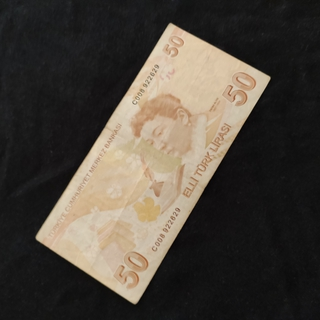50TLBack: (34, 23, 272, 305)
